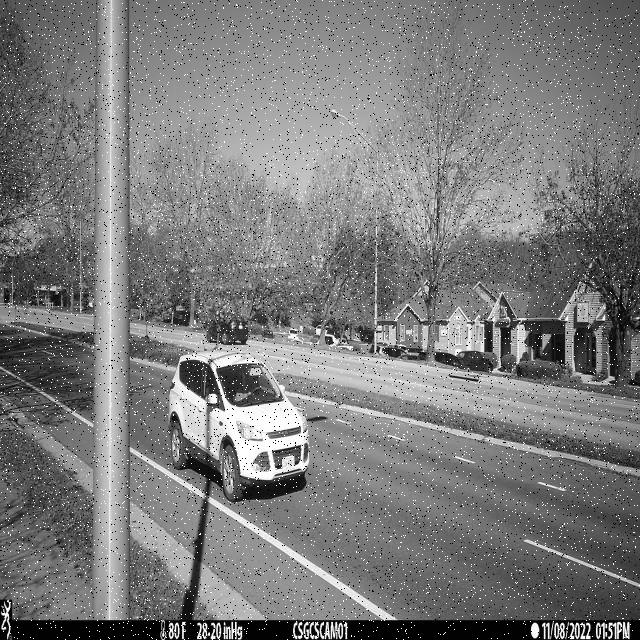SUV: (168, 349, 312, 503)
